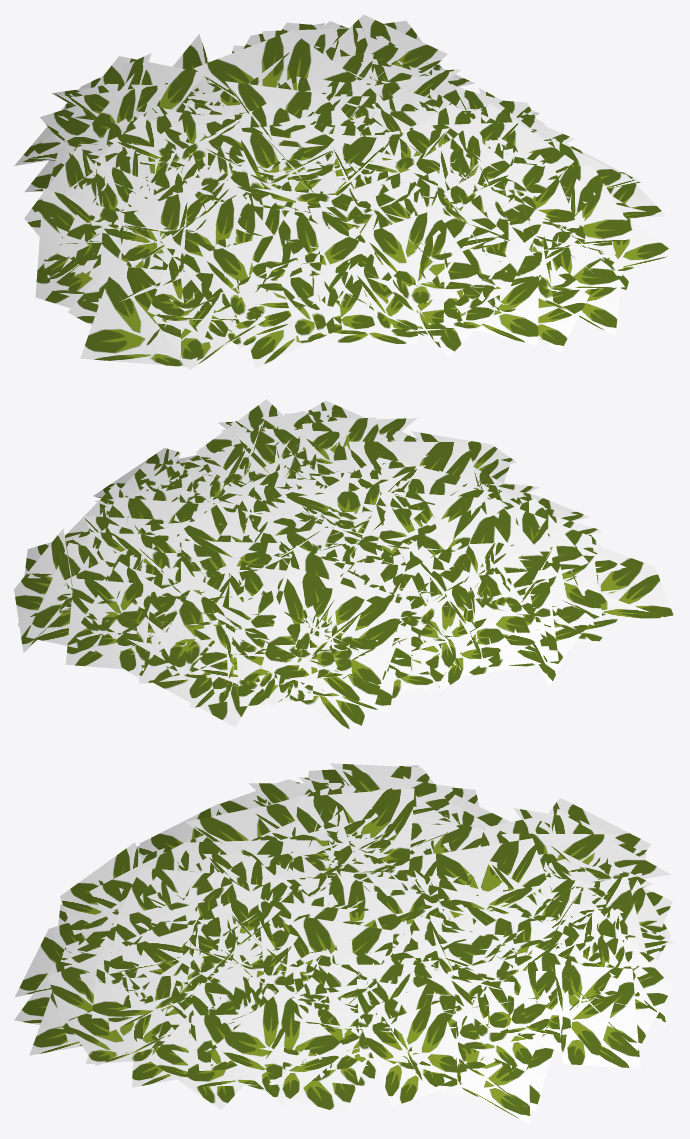
File: M_guanmu02.fbx
3 views of the same model, one above another, from view 1: azimuth 30°, elevation 25°; view 2: azimuth 150°, elevation 25°; view 3: azimuth 270°, elevation 25° (orthographic). The views are drawn at different scales.
Visible parts, largest first — view 1: M_guanmu02; view 2: M_guanmu02; view 3: M_guanmu02.
Boxes of the visible parts, <box> form: M_guanmu02: <box>14,14,675,370</box>; M_guanmu02: <box>14,399,675,734</box>; M_guanmu02: <box>14,763,675,1124</box>.
Bounding box in the file's own units: 6.8 × 2.05 × 6.48.
